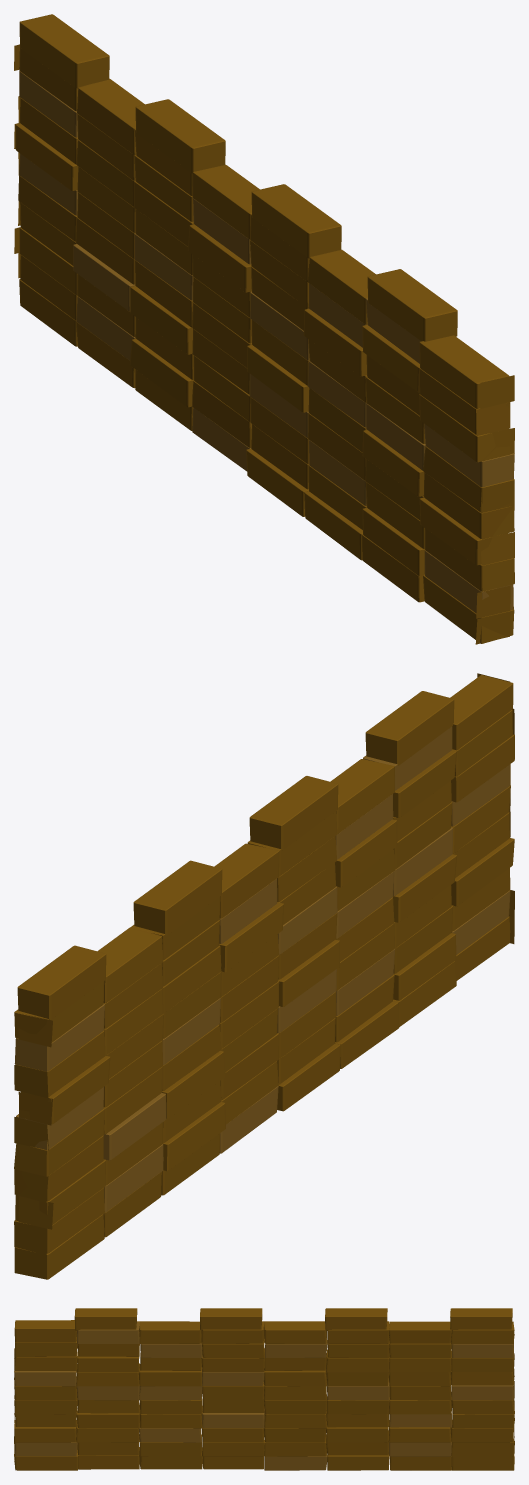
The model's file is Wall_NoTile.fbx.
3 views of the same model, one above another, from view 1: azimuth 30°, elevation 25°; view 2: azimuth 150°, elevation 25°; view 3: azimuth 270°, elevation 25° (orthographic). The views are drawn at different scales.
Parts seen in each view (by area): view 1: Cube.028, Cube.076; view 2: Cube.028, Cube.076; view 3: Cube.028, Cube.076.
Part boxes in pixels (left/top/right/bottom): Cube.028: left=14, top=44, right=514, bottom=644; Cube.076: left=19, top=14, right=457, bottom=341; Cube.028: left=14, top=673, right=514, bottom=1279; Cube.076: left=17, top=691, right=454, bottom=1019; Cube.028: left=14, top=1320, right=514, bottom=1470; Cube.076: left=74, top=1308, right=512, bottom=1330.
Bounding box in the file's own units: 0.6622 × 4.69 × 13.85.
